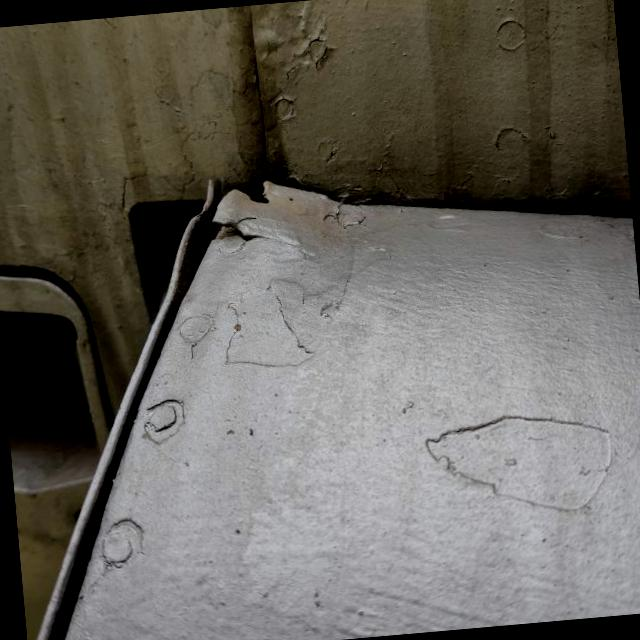crack: (203, 204, 271, 258)
